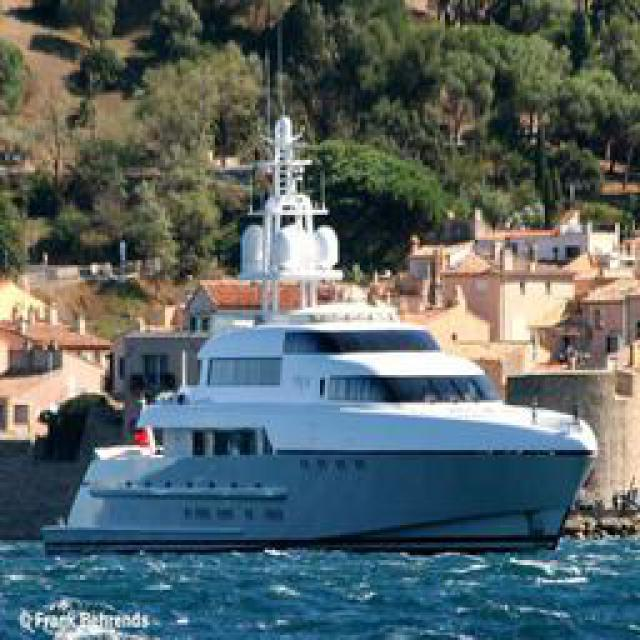Ship: (50, 307, 593, 555)
